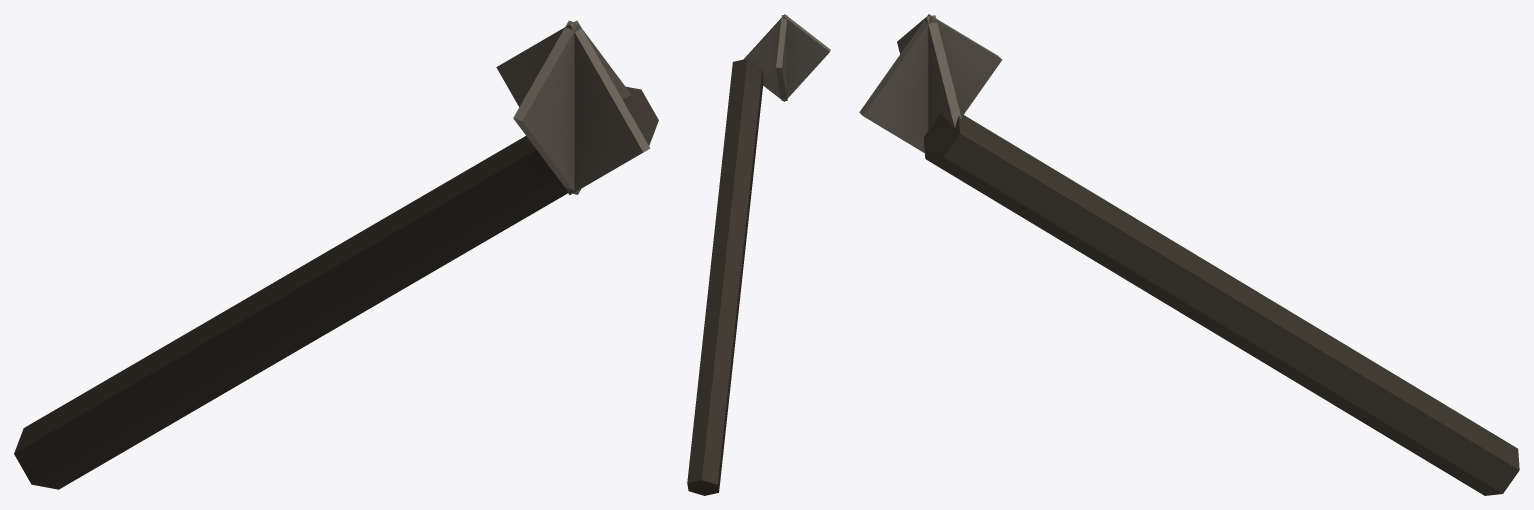
The model's file is trace_rosa.glb.
3 renders of one model, left to right at view 1: azimuth 30°, elevation 25°; view 2: azimuth 150°, elevation 25°; view 3: azimuth 270°, elevation 25°, orthographic. The views are drawn at different scales.
Visible parts, largest first — view 1: trace_rosa.001; view 2: trace_rosa.001; view 3: trace_rosa.001.
Boxes of the visible parts, x1,y1,x2,y2 form: trace_rosa.001: (14, 20, 658, 489); trace_rosa.001: (687, 14, 830, 495); trace_rosa.001: (859, 14, 1519, 495).
Size of the model in its own units: 0.1197 by 0.2509 by 0.2724.
Materials: 2 (2 with a texture image).
